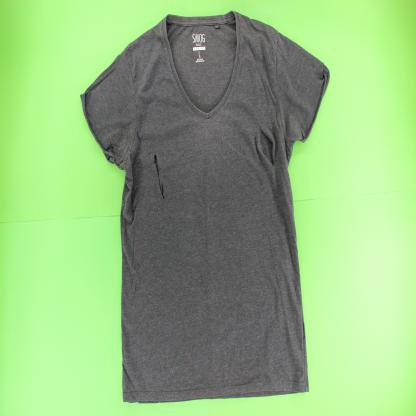hole: (258, 124, 276, 169), (153, 151, 165, 203)
